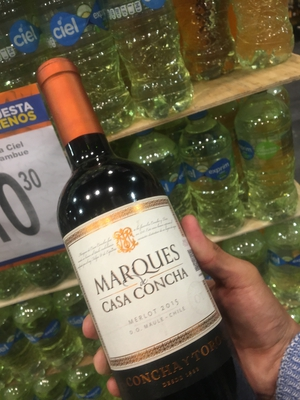marques de casa concha merlot: (42, 67, 235, 400)
